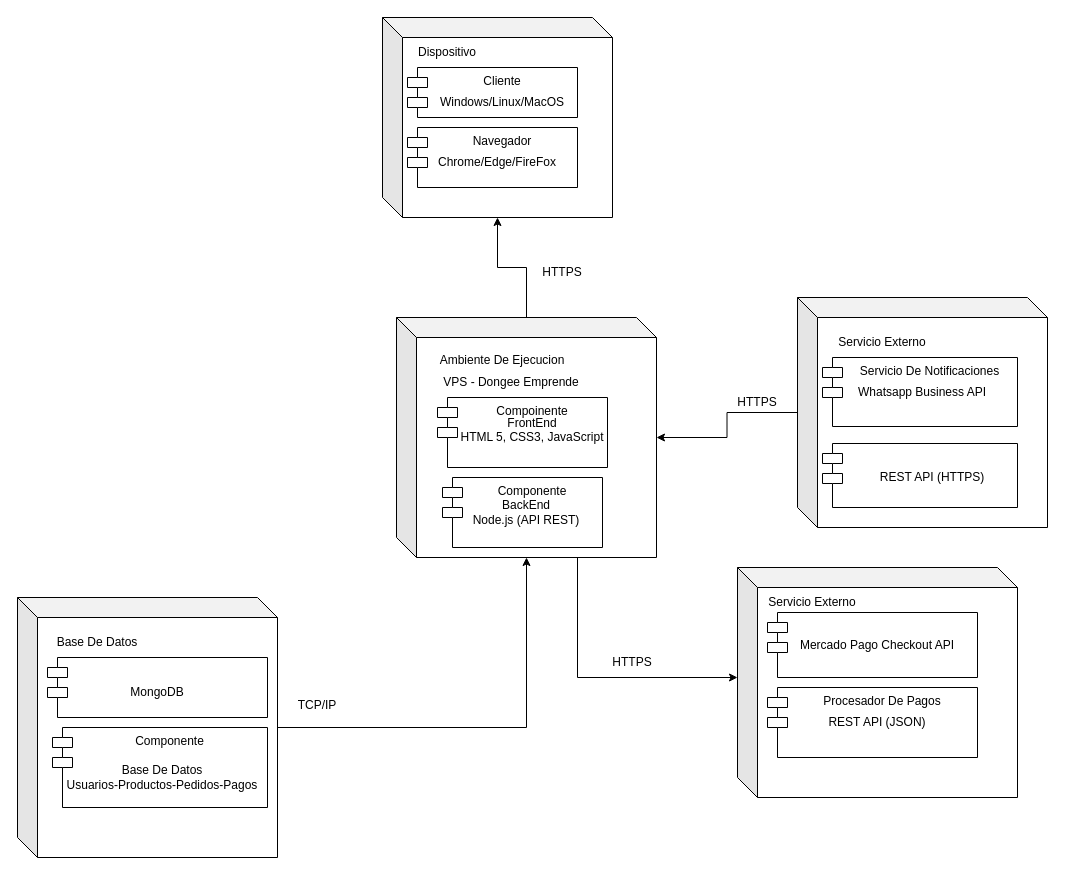
This 1065x875 diagram has some shape labels left out. The box of each missing label's shape, as (x1, y1, x2, y2) in pixels:
Comunicacion: (822, 442, 1018, 508)
Pasarela De Pago: (766, 612, 978, 678)
Servidor Remoto: (46, 656, 268, 718)
